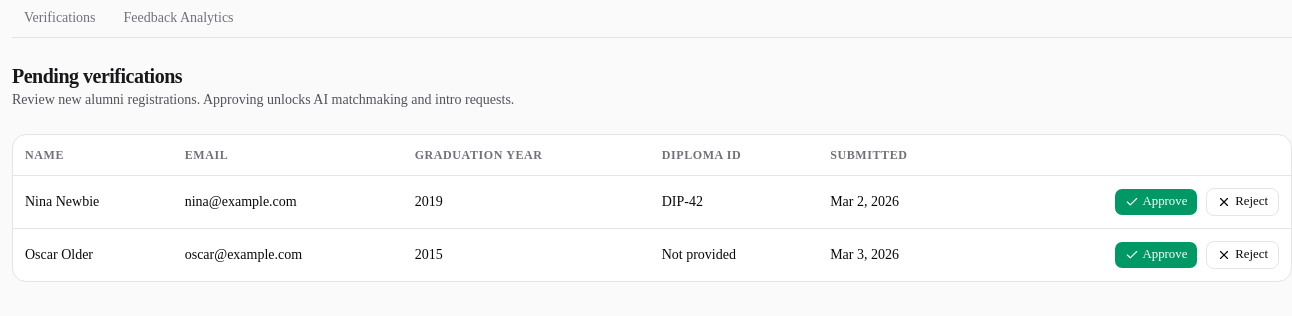
Scenario: Verifications › Reject sends the REJECT decision
The image size is (1292, 316).
Click the button with aria-label "Reject Oscar Older": (1243, 254) [1206,240,1279,268]
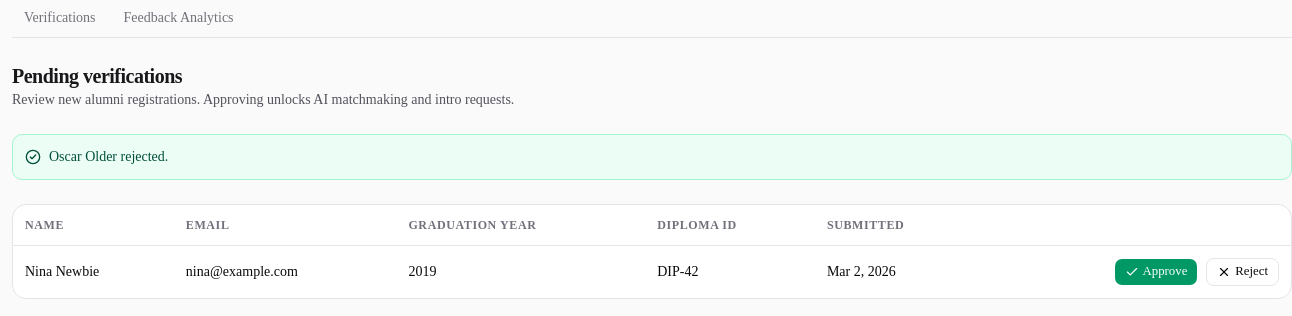
Expected: the message shows "Oscar Older rejected", [49,149,168,164]
